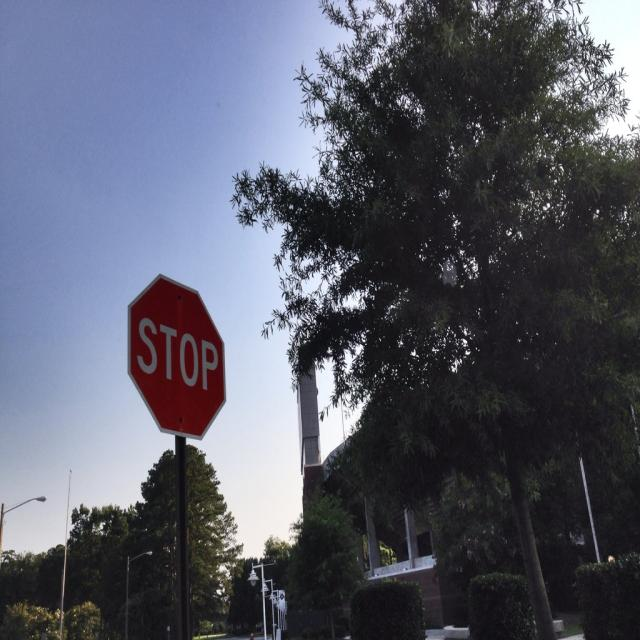Stop-sign: (126, 271, 228, 442)
